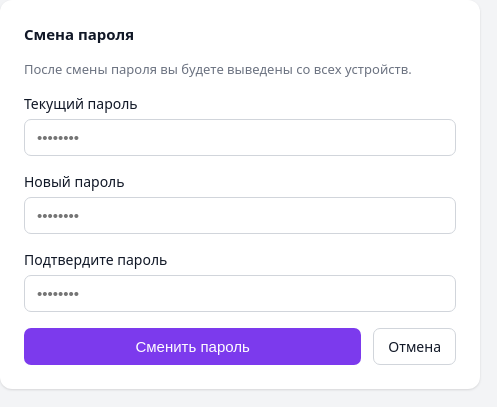
Test: ChangePasswordView › clears auth state and shows success view on success
Type "OldPass1!" into the password field with id "current".
click(240, 138); type("OldPass1!")  # box [24,119,456,156]
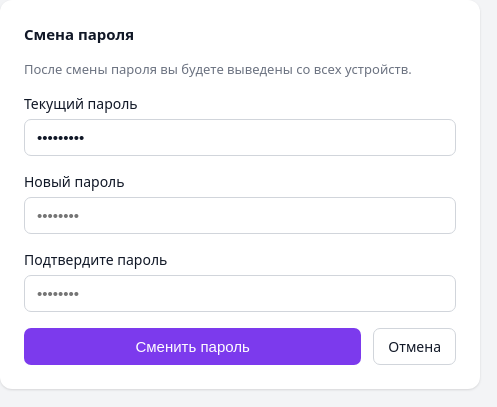
Type "NewPass1!" into the password field with id "new".
click(240, 216); type("NewPass1!")  # box [24,197,456,234]
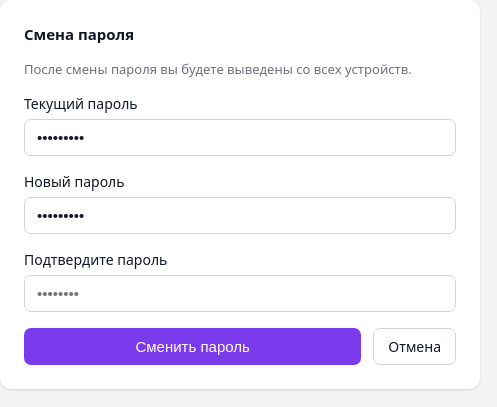
Type "NewPass1!" into the password field with id "confirm".
click(240, 294); type("NewPass1!")  # box [24,275,456,312]
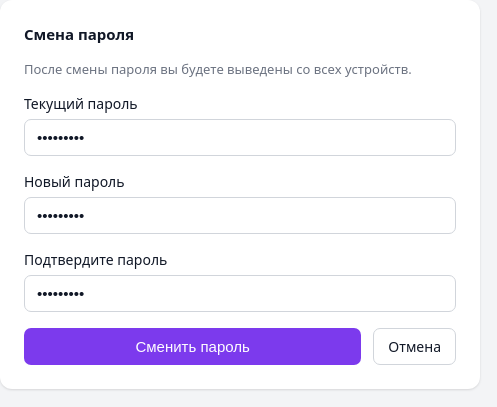
Submit the form, box [24,94,456,365]
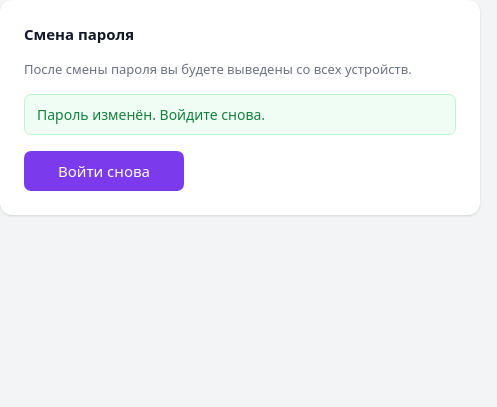
Expected: the text "Пароль изменён. Войдите снова." is shown, [24,94,456,135]
